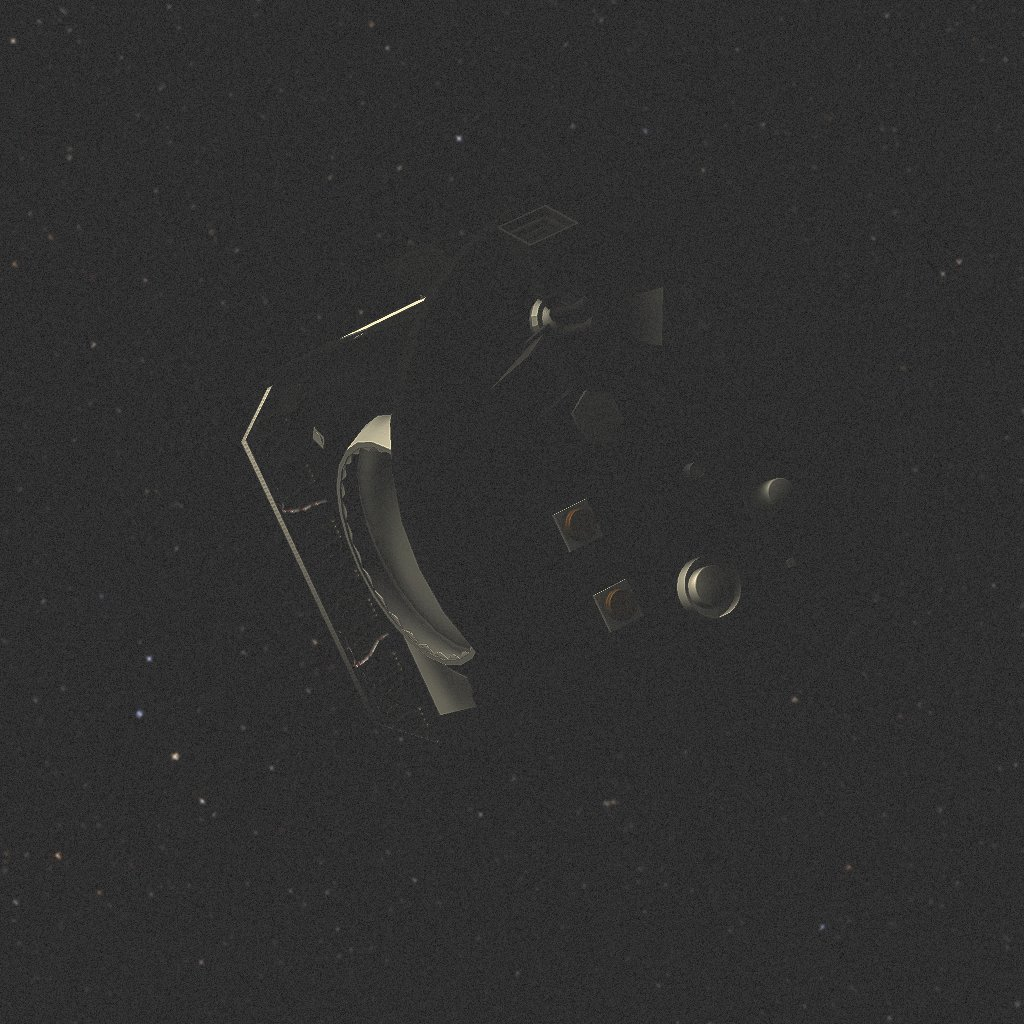proba_3_ocs: (241, 217, 824, 723)
